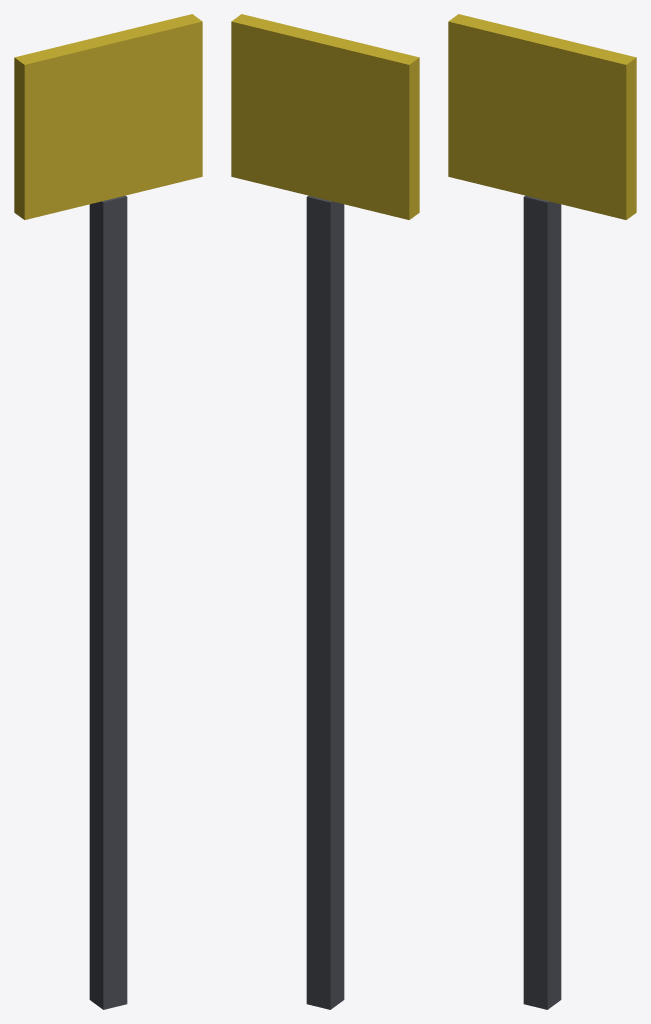
File: stop_sign.glb
The picture shows the model from 3 angles, left to right: view 1: azimuth 30°, elevation 25°; view 2: azimuth 150°, elevation 25°; view 3: azimuth 330°, elevation 25°; orthographic projection.
Parts seen in each view (by area): view 1: placeholder; view 2: placeholder; view 3: placeholder.
Part boxes in pixels (<box>): placeholder: <box>14,14,202,1009</box>; placeholder: <box>231,14,419,1009</box>; placeholder: <box>448,14,636,1009</box>.
Bounding box in the file's own units: 0.6 × 3.1 × 0.08.
